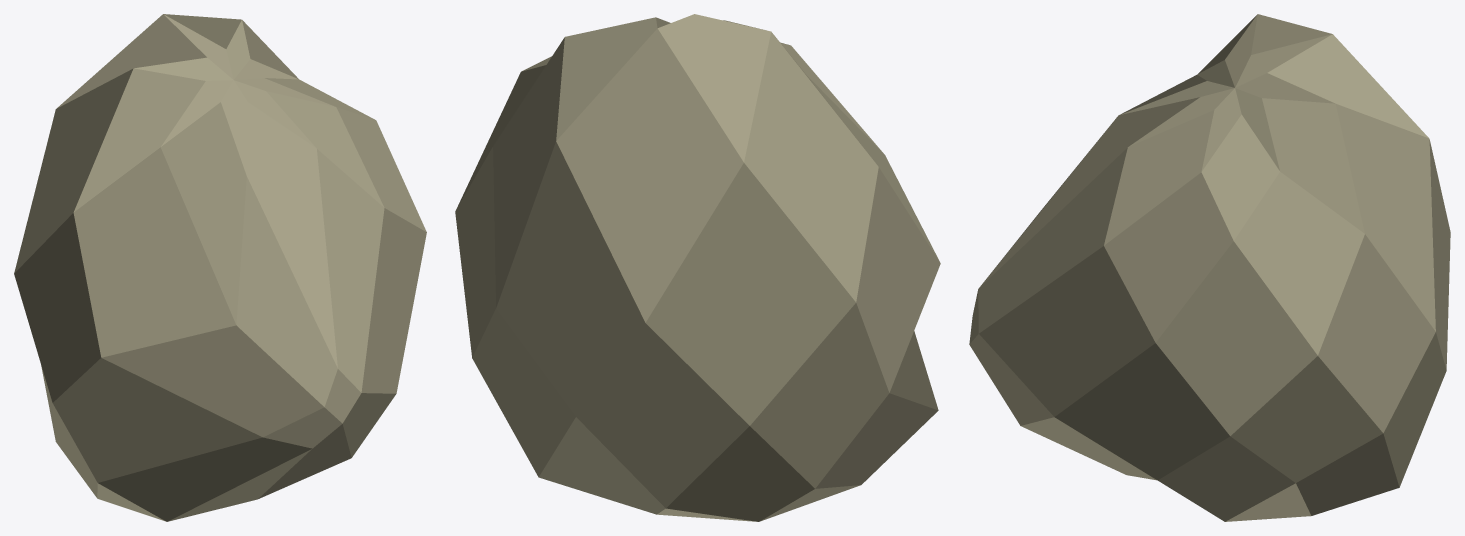
Rendered from Rock_03.fbx.
3 renders of one model, left to right at view 1: azimuth 30°, elevation 25°; view 2: azimuth 150°, elevation 25°; view 3: azimuth 270°, elevation 25°, orthographic. The views are drawn at different scales.
Visible parts, largest first — view 1: Rock_03; view 2: Rock_03; view 3: Rock_03.
Boxes of the visible parts, box(x1,y1,x2,y2) form: Rock_03: box(14, 14, 426, 521); Rock_03: box(455, 14, 940, 521); Rock_03: box(969, 14, 1450, 521).
Size of the model in its own units: 279 by 333 by 313.
